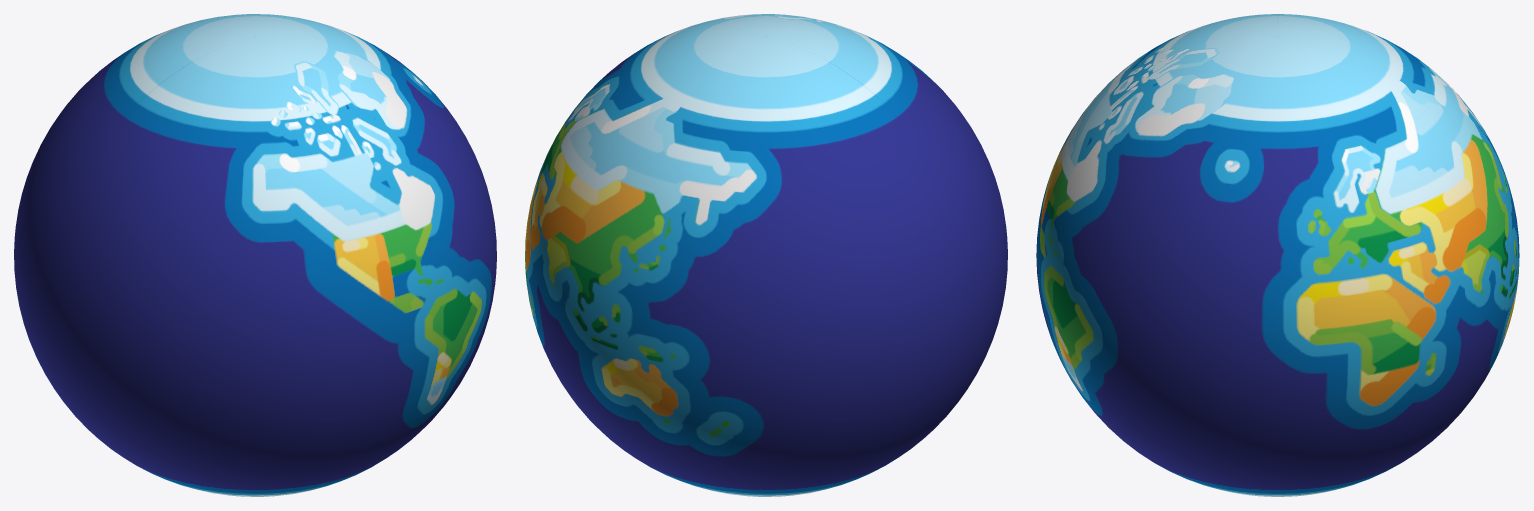
File: earth.fbx
The picture shows the model from 3 angles, left to right: view 1: azimuth 30°, elevation 25°; view 2: azimuth 150°, elevation 25°; view 3: azimuth 270°, elevation 25°; orthographic projection.
Parts seen in each view (by area): view 1: GeoSphere001; view 2: GeoSphere001; view 3: GeoSphere001.
Part boxes in pixels (box(x1,y1,x2,y2)): GeoSphere001: box(14, 14, 496, 496); GeoSphere001: box(525, 14, 1007, 496); GeoSphere001: box(1036, 14, 1519, 496).
Bounding box in the file's own units: 502 × 502 × 502.
